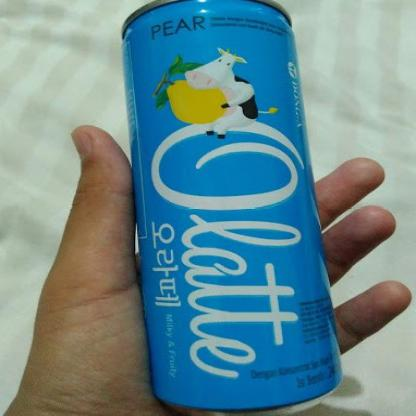can: (119, 0, 350, 415)
